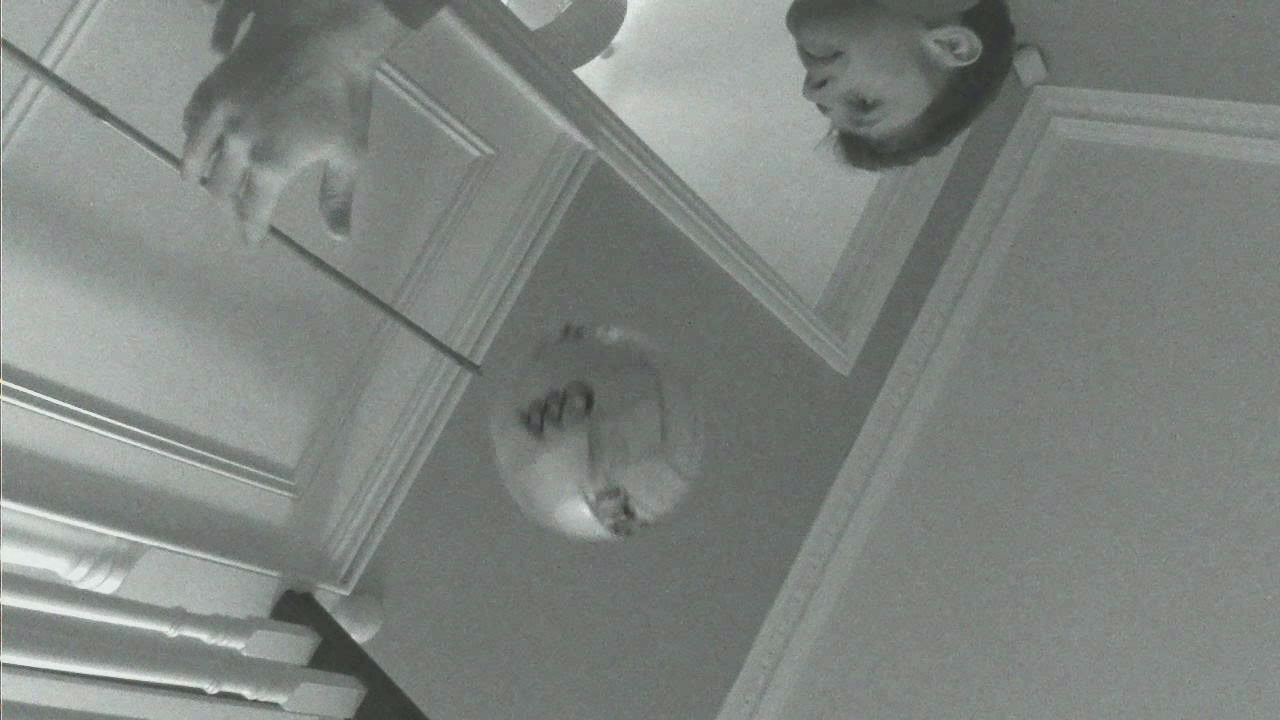Football-Spotter: (490, 325, 701, 540)
